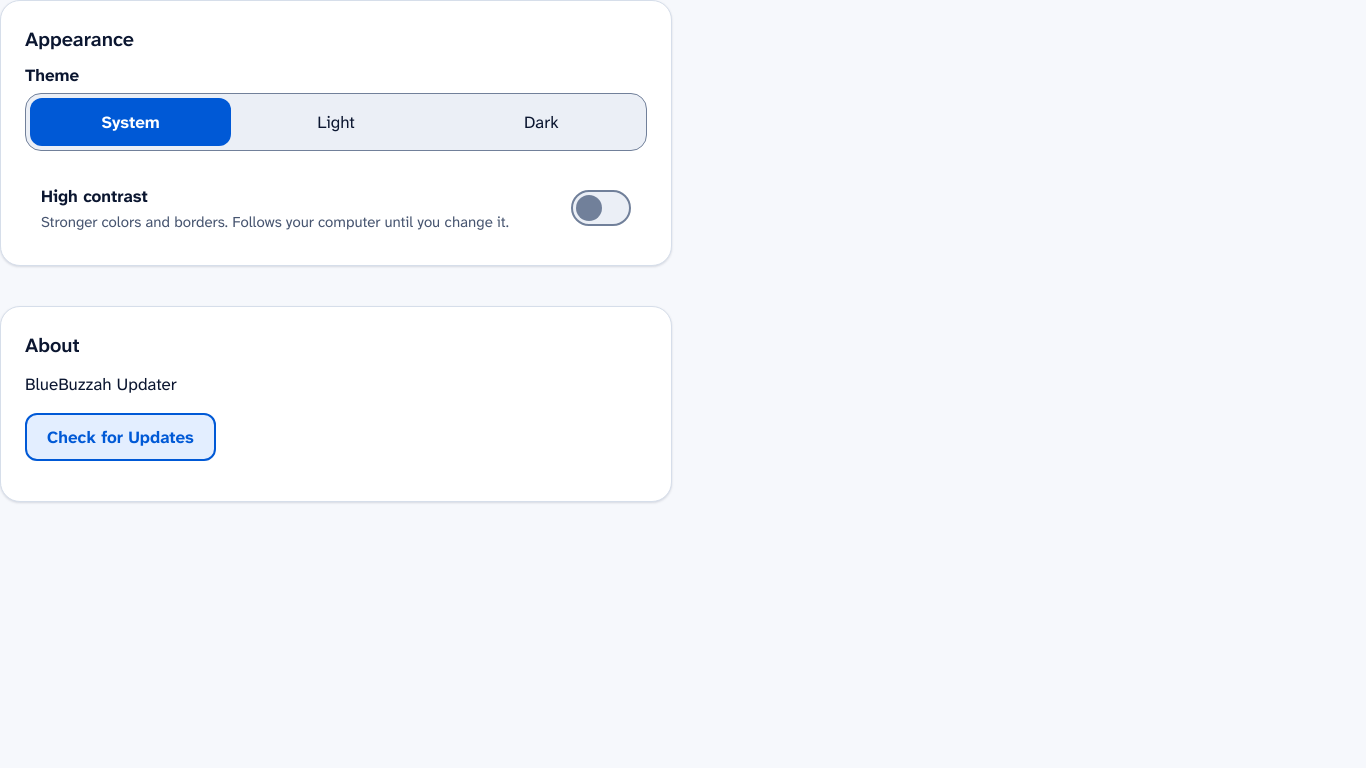
Test: SettingsPage › theme choices drive data-theme
The width and height of the screenshot is (1366, 768).
Step 1. Click the radio button labelled "Light" → (336, 122), box [235,98,437,146]
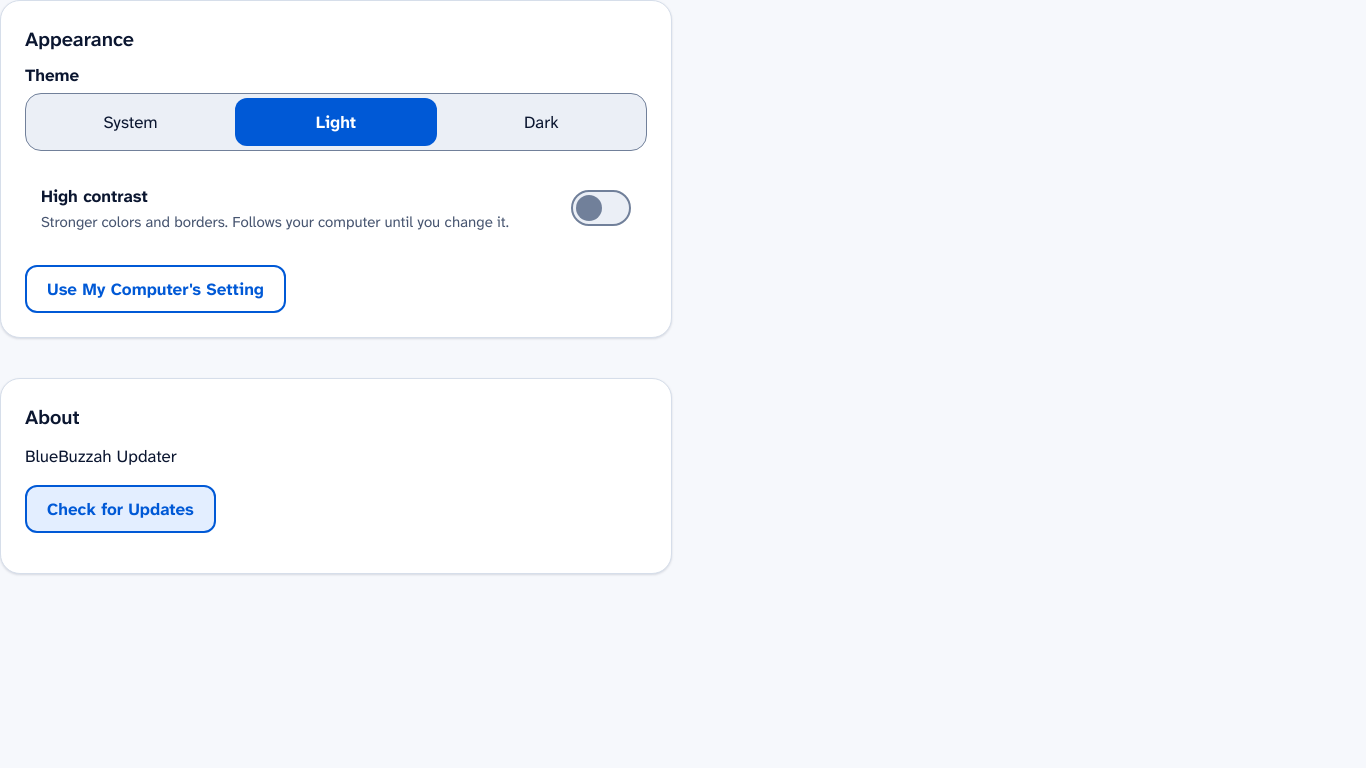
Step 2. Click the switch labelled "High contrast" → (94, 196), box [25,175,647,241]
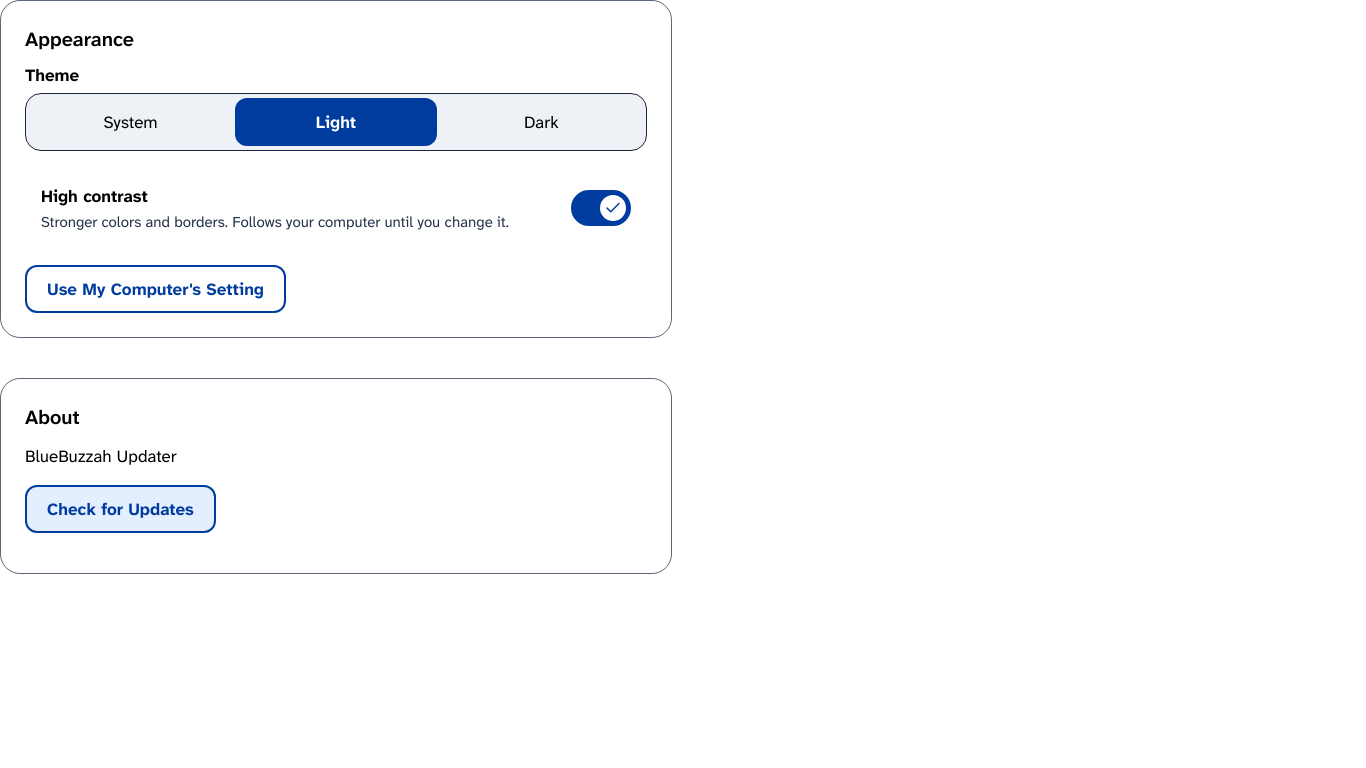
Step 3. Click the button "Use My Computer's Setting" → (155, 289), box [25,265,286,313]
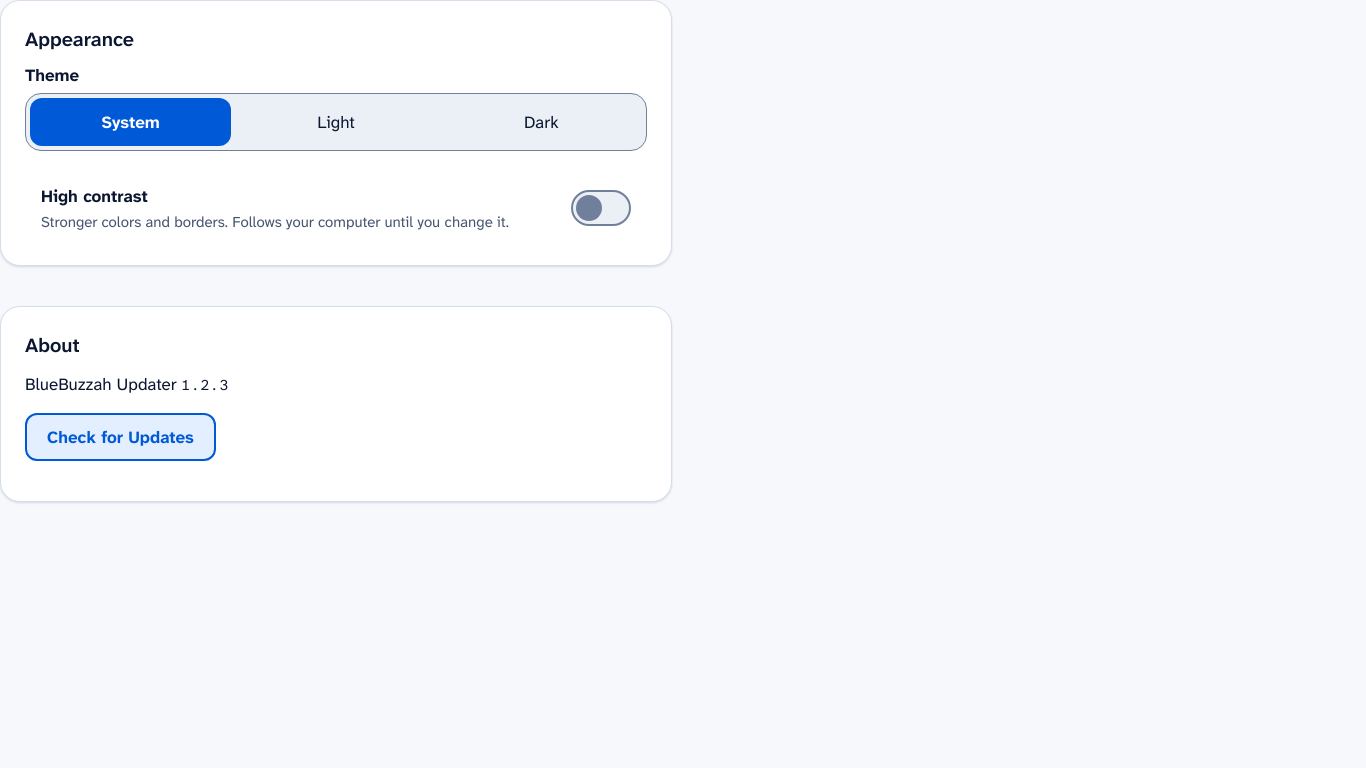
Check: the button "Use My Computer's Setting" is gone
